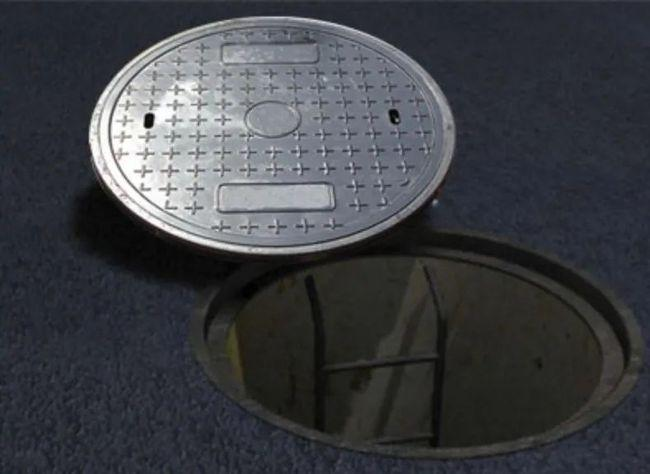wellcover: (82, 13, 646, 466)
